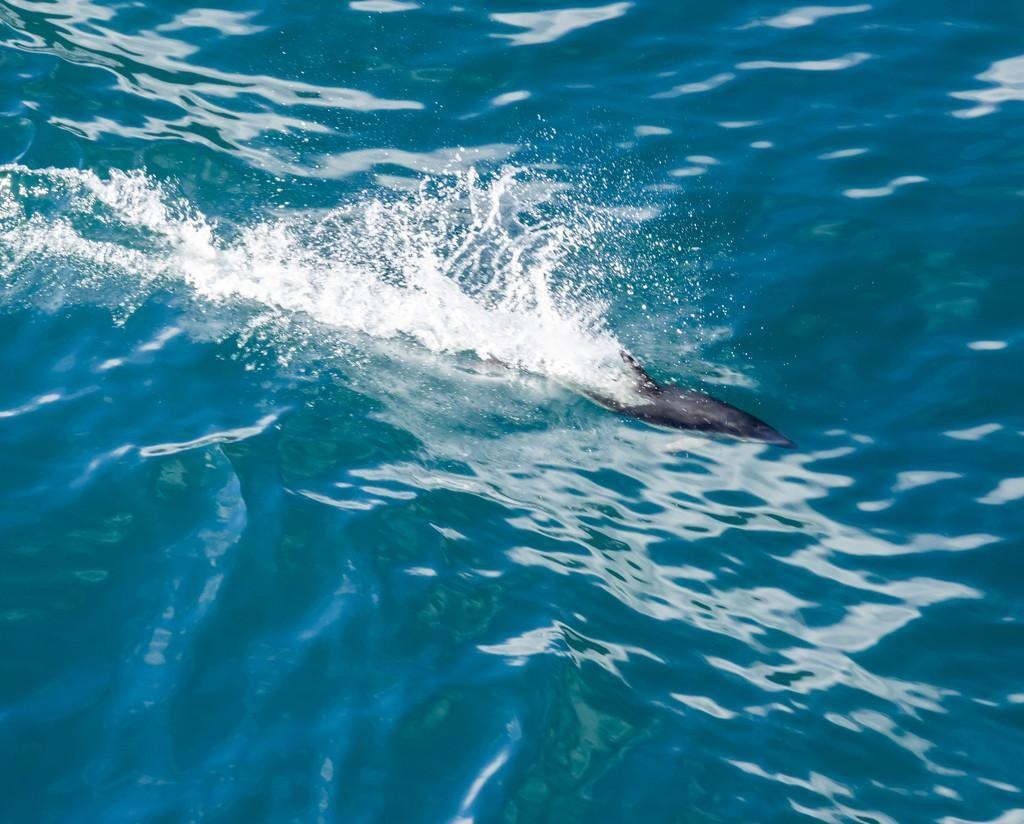fish: (566, 337, 814, 445)
